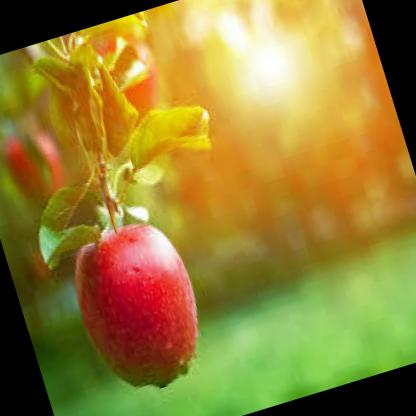apple: (51, 184, 219, 403)
